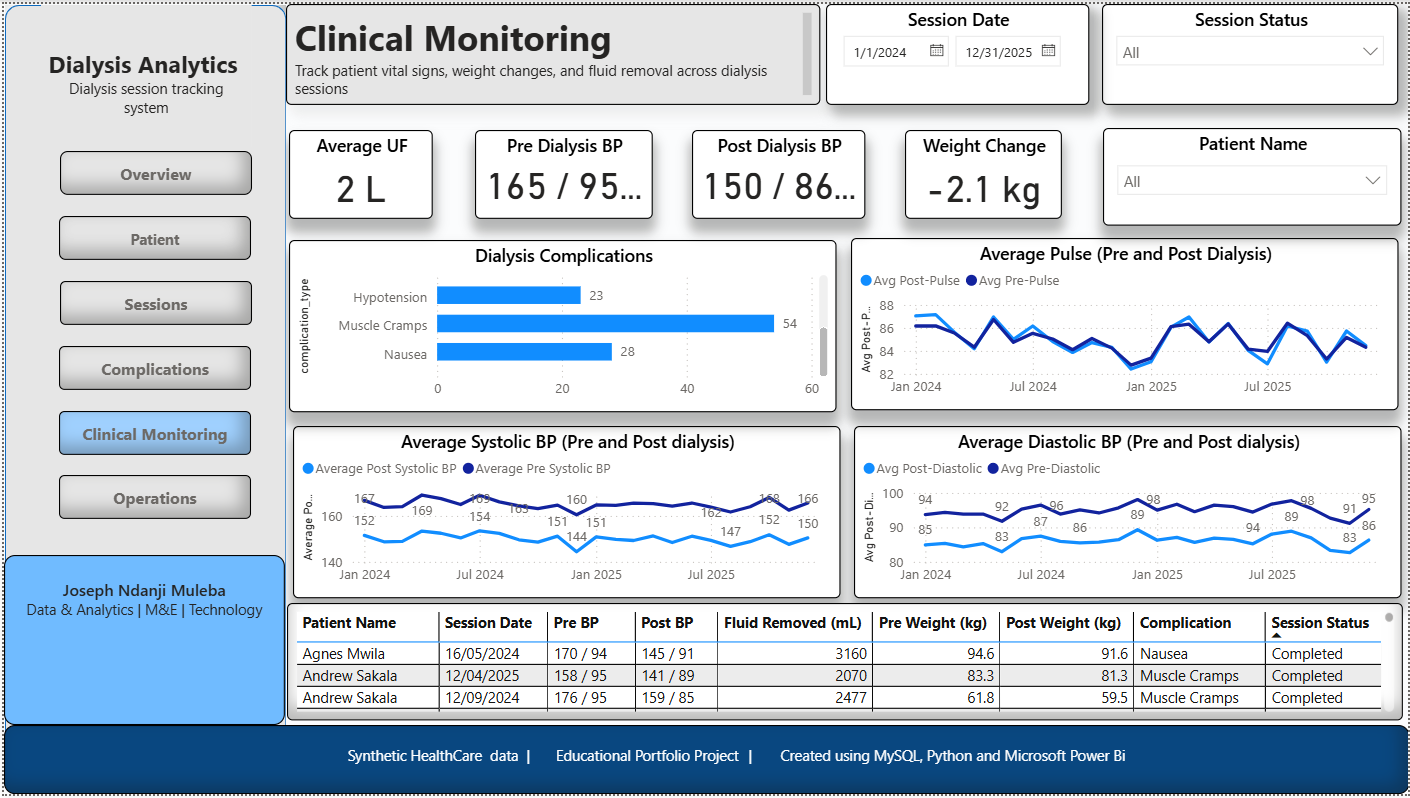

This screenshot's page, from the dashboard's own definition file:
{"tool":"powerbi","page":{"name":"Patient info","canvas":[1280,720],"ordinal":1},"visuals":[{"type":"textbox","box":[0,0,1278.8,99.9],"z":0},{"type":"lineChart","title":"Average Systolic BP (Pre and Post dialysis)","fields":{"Category":["dialysis_tracker sessions.session_date.Variation.Date Hierarchy.Year","dialysis_tracker sessions.session_date.Variation.Date Hierarchy.Month"],"Y":["Dashboard Measures.Average Pre Systolic BP","Dashboard Measures.Average Post Systolic BP"]},"box":[283.4,454.8,490,145.6],"z":0,"group":"g1"},{"type":"group","id":"g1","title":"Charts ","box":[7.5,297.5,1268.8,407.5],"z":1000},{"type":"lineChart","title":"Average Diastolic BP (Pre and Post dialysis)","fields":{"Category":["dialysis_tracker sessions.session_date.Variation.Date Hierarchy.Year","dialysis_tracker sessions.session_date.Variation.Date Hierarchy.Month"],"Y":["Dashboard Measures.Avg Post-Diastolic","Dashboard Measures.Avg Pre-Diastolic"]},"box":[785,454.8,490,145.6],"z":1000,"group":"g1"},{"type":"card","title":"Avg Fluid Removal","fields":{"Values":["Dashboard Measures.Avg Fluid Removed Display"]},"box":[496.2,115,168.6,81.2],"z":2000},{"type":"barChart","title":"Dialysis Complications","fields":{"Category":["dialysis_tracker session_complications.complication_type"],"Y":["Count(dialysis_tracker session_complications.complication_id)"]},"box":[279.9,297.5,490,145.6],"z":2000,"group":"g1"},{"type":"card","title":"Avg Session Duration (hrs)","fields":{"Values":["Avg(dialysis_tracker sessions.actual_duration_hours)"]},"box":[711.2,115,124.8,81.8],"z":3000},{"type":"lineChart","title":"Average Pulse (Pre and Post Dialysis)","fields":{"Category":["dialysis_tracker sessions.session_date.Variation.Date Hierarchy.Year","dialysis_tracker sessions.session_date.Variation.Date Hierarchy.Month"],"Y":["Dashboard Measures.Avg Pre-Weight","Dashboard Measures.Avg Post-Weight"]},"box":[781.3,304,495,137.7],"z":3000,"group":"g1"},{"type":"card","title":"Completed Sessions","fields":{"Values":["Dashboard Measures.Completed Sessions"]},"box":[1151.2,116.2,124.8,81.8],"z":4000},{"type":"tableEx","title":"Session monitoring ","fields":{"Values":["dialysis_tracker patients.Patient Name","dialysis_tracker sessions.session_date","dialysis_tracker vital_logs.Pre BP","dialysis_tracker vital_logs.Post BP","dialysis_tracker sessions.fluid_removed_ml","dialysis_tracker vital_logs.pre_weight","dialysis_tracker vital_logs.post_weight","dialysis_tracker session_complications.complication_type","dialysis_tracker sessions.session_status","Sum(dialysis_tracker sessions.actual_duration_hours)"]},"box":[7.5,605,1267.9,100],"z":4000,"group":"g1"},{"type":"card","title":"Completion rate ","fields":{"Values":["Dashboard Measures.Session Completion Rate"]},"box":[1000,115,124.8,81.8],"z":5000},{"type":"card","title":"Total Sessions","fields":{"Values":["Dashboard Measures.Total Sessions"]},"box":[856.2,115,124.8,81.8],"z":6000},{"type":"slicer","fields":{"Values":["dialysis_tracker patients.Patient Name"]},"box":[607.4,0,345,89.7],"z":7000},{"type":"slicer","fields":{"Values":["dialysis_tracker sessions.session_date.Variation.Date Hierarchy.Year","dialysis_tracker sessions.session_date.Variation.Date Hierarchy.Month"]},"box":[952.2,0,327.8,89.7],"z":8000},{"type":"card","title":"Average Post-Dialysis BP","fields":{"Values":["dialysis_tracker vital_logs.Pre-Dialysis BP"]},"box":[521.2,210,288.9,67.1],"z":9000},{"type":"card","title":"Average Pre-Dialysis BP","fields":{"Values":["dialysis_tracker vital_logs.Pre-Dialysis BP"]},"box":[911.2,210,301.3,67.1],"z":10000},{"type":"cardVisual","fields":{"Data":["Min(dialysis_tracker patients.Patient Name)"]},"box":[0,99.9,277.9,287.3],"z":11000},{"type":"donutChart","title":"Session Status","fields":{"Category":["dialysis_tracker sessions.session_status"],"Y":["CountNonNull(dialysis_tracker sessions.session_id)"]},"box":[0,386.9,278.7,213.1],"z":12000}]}

Visuals, with their boxes on the page's 1280x720 design canvas (x1, y1, x2, y2). These are canvas units, not pixel positions in the 1410x798 screenshot, which may show the page scaled, cropped or inside an application window:
textbox: [x1=0, y1=0, x2=1279, y2=100]
"Average Systolic BP (Pre and Post dialysis)" lineChart: [x1=283, y1=455, x2=773, y2=600]
"Charts " group: [x1=8, y1=298, x2=1276, y2=705]
"Average Diastolic BP (Pre and Post dialysis)" lineChart: [x1=785, y1=455, x2=1275, y2=600]
"Avg Fluid Removal" card: [x1=496, y1=115, x2=665, y2=196]
"Dialysis Complications" barChart: [x1=280, y1=298, x2=770, y2=443]
"Avg Session Duration (hrs)" card: [x1=711, y1=115, x2=836, y2=197]
"Average Pulse (Pre and Post Dialysis)" lineChart: [x1=781, y1=304, x2=1276, y2=442]
"Completed Sessions" card: [x1=1151, y1=116, x2=1276, y2=198]
"Session monitoring " tableEx: [x1=8, y1=605, x2=1275, y2=705]
"Completion rate " card: [x1=1000, y1=115, x2=1125, y2=197]
"Total Sessions" card: [x1=856, y1=115, x2=981, y2=197]
slicer - dialysis_tracker patients.Patient Name: [x1=607, y1=0, x2=952, y2=90]
slicer - dialysis_tracker sessions.session_date.Variation.Date Hierarchy.Year x dialysis_tracker sessions.session_date.Variation.Date Hierarchy.Month: [x1=952, y1=0, x2=1280, y2=90]
"Average Post-Dialysis BP" card: [x1=521, y1=210, x2=810, y2=277]
"Average Pre-Dialysis BP" card: [x1=911, y1=210, x2=1212, y2=277]
cardVisual - Min(dialysis_tracker patients.Patient Name): [x1=0, y1=100, x2=278, y2=387]
"Session Status" donutChart: [x1=0, y1=387, x2=279, y2=600]
